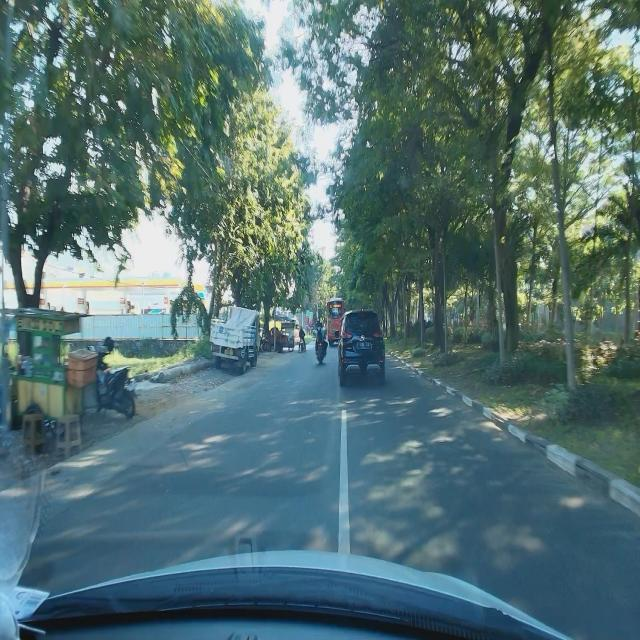car: (337, 306, 386, 386)
license-plate: (356, 342, 370, 349)
